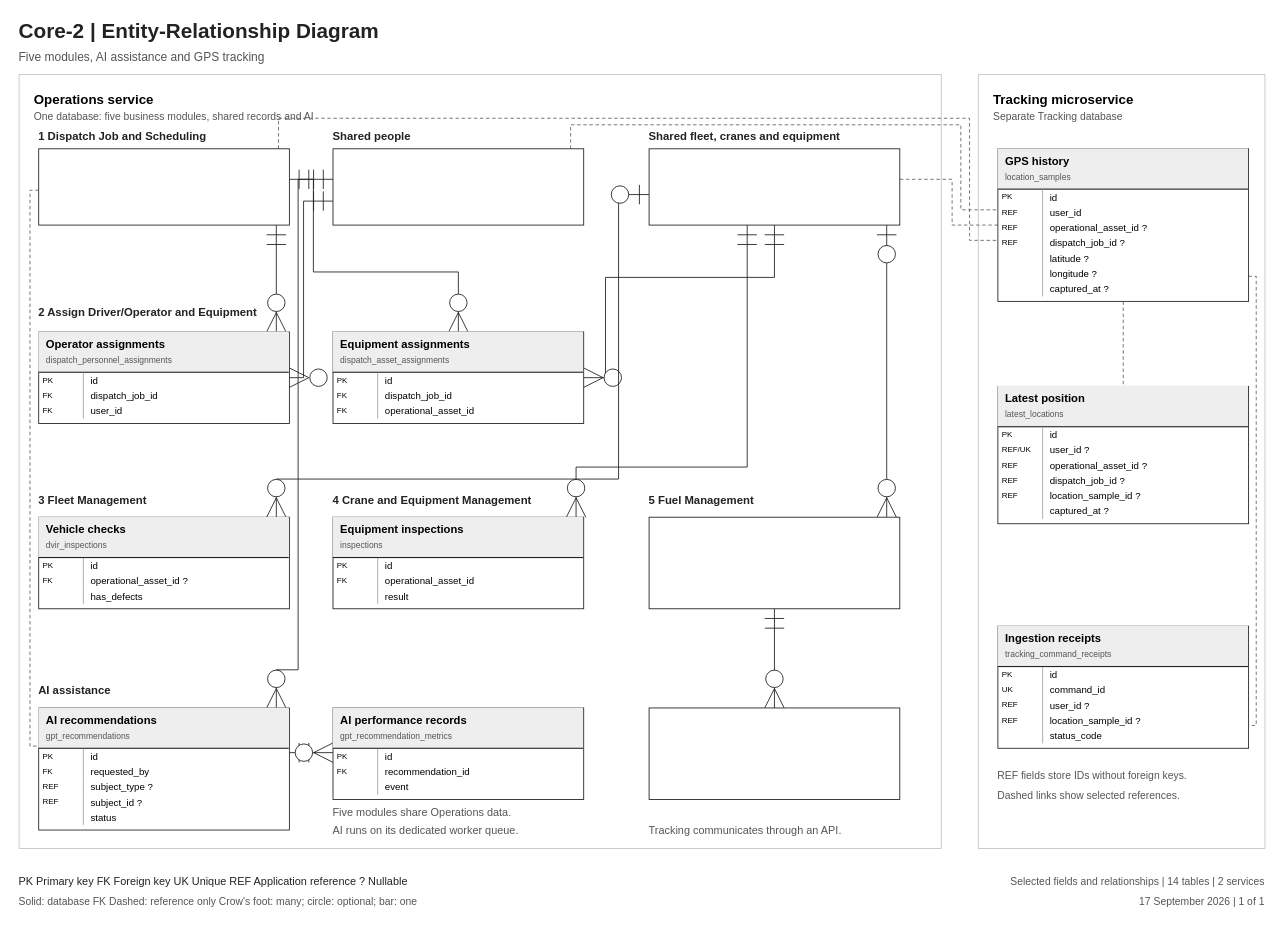
The diagram is 1284 pixels wide and 927 high, and some of its shapes have lost their labels. Here are the shapes that lost their labels. From the top down, the centre of each, then its label:
At (x=163, y=186): "Jobs dispatch_jobs PK id title".
At (x=458, y=186): "People users PK id name".
At (x=774, y=186): "Equipment operational_assets PK id kind".
At (x=774, y=562): "Fuel requests fuel_requests PK id FK operational_asset_id ? quantity_litres".
At (x=774, y=753): "Fuel usage fuel_logs PK id FK fuel_request_id quantity_litres".
